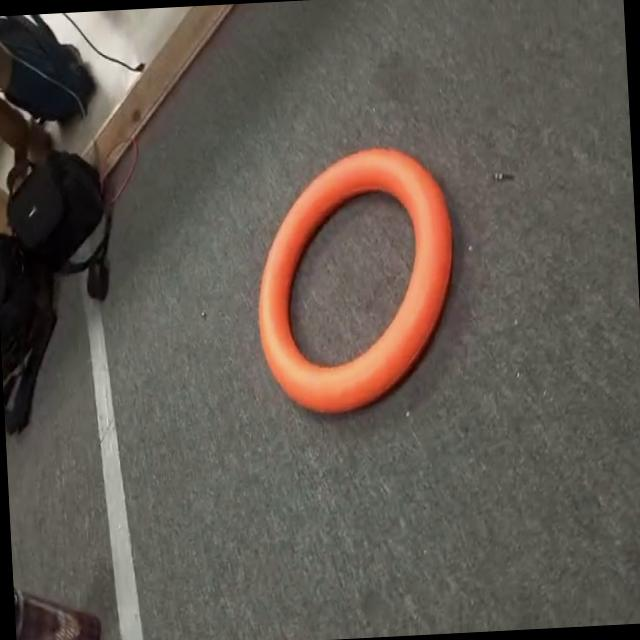note: (245, 132, 472, 424)
